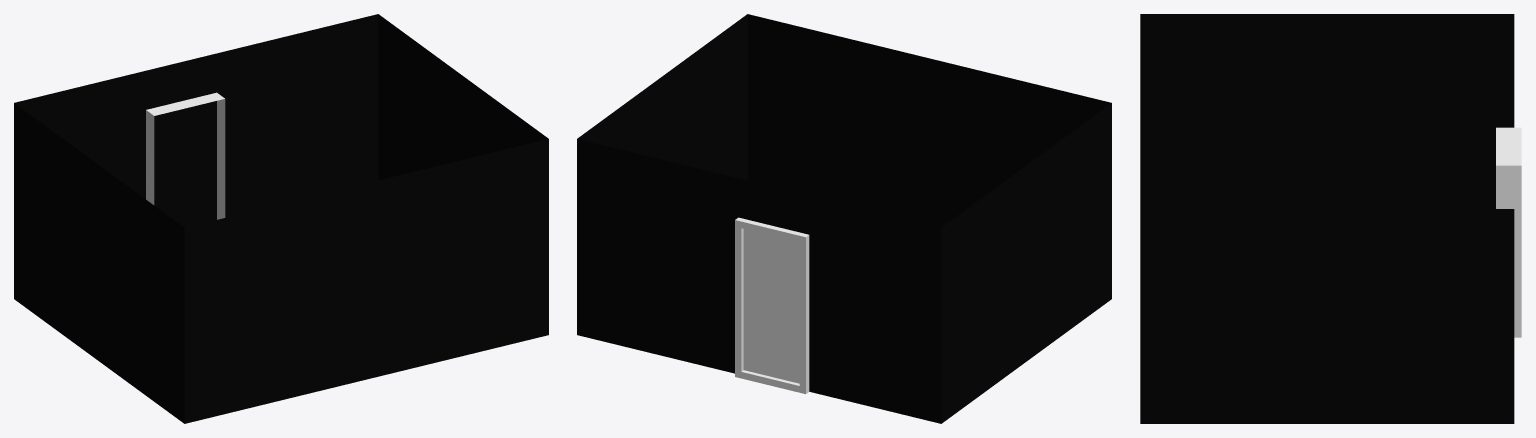
Rendered from CityBuildingC_02_base.fbx.
The picture shows the model from 3 angles, left to right: view 1: azimuth 30°, elevation 25°; view 2: azimuth 150°, elevation 25°; view 3: azimuth 270°, elevation 25°; orthographic projection. The views are drawn at different scales.
Parts seen in each view (by area): view 1: CityBuildingC_02_base; view 2: CityBuildingC_02_base; view 3: CityBuildingC_02_base.
Part boxes in pixels (x1=…): CityBuildingC_02_base: x1=14, y1=14, x2=548, y2=423; CityBuildingC_02_base: x1=577, y1=14, x2=1111, y2=423; CityBuildingC_02_base: x1=1140, y1=14, x2=1521, y2=423.
Size of the model in its own units: 0.6706 by 0.3451 by 0.5547.
